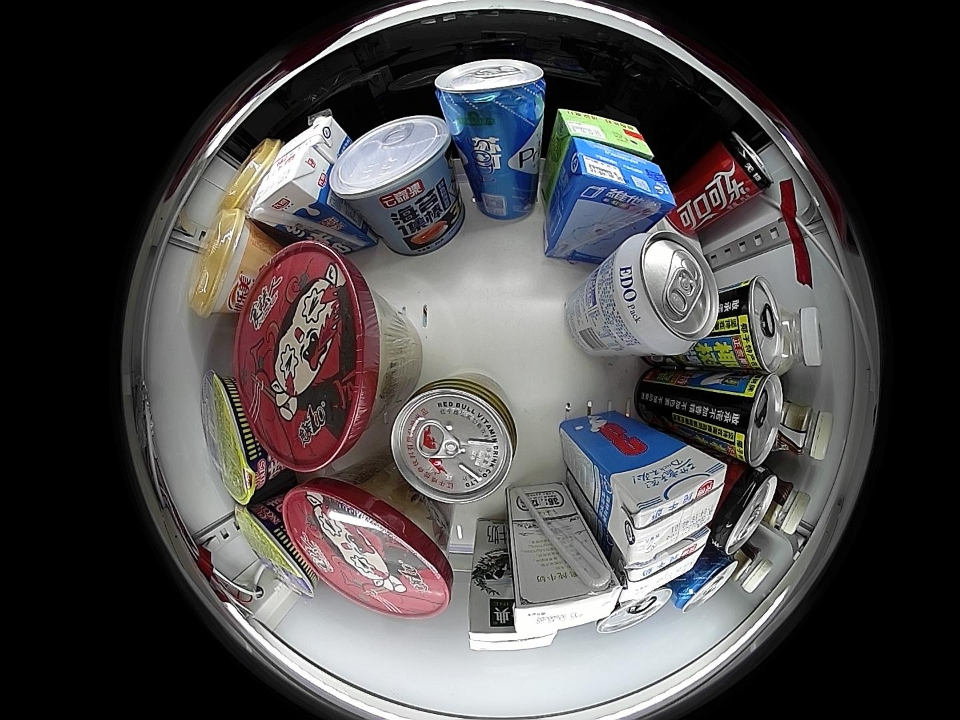haitai: (329, 114, 454, 217)
heweidao: (200, 369, 270, 506), (233, 500, 319, 601)
hongniu2: (391, 375, 518, 504)
jindian: (509, 560, 622, 638), (469, 617, 557, 652)
kafei: (776, 399, 833, 461), (763, 476, 810, 535), (725, 539, 774, 594)
lingdukele: (710, 466, 778, 557), (715, 131, 772, 198)
niunai: (608, 440, 729, 565), (249, 144, 331, 227), (617, 530, 711, 600), (273, 114, 347, 166)
qingdaowangzi-2: (434, 59, 547, 127), (673, 550, 738, 613)
rusuanjunqishui: (604, 230, 718, 359)
suanlafen: (235, 241, 393, 472), (284, 475, 453, 620)
wanglaoji: (552, 107, 654, 159)
weitanai: (557, 139, 676, 225)
weiweidounai: (777, 307, 824, 374)
yezhi: (717, 372, 783, 467), (725, 276, 785, 373), (596, 584, 673, 635)
youlemei: (188, 207, 263, 319), (221, 139, 277, 213)
